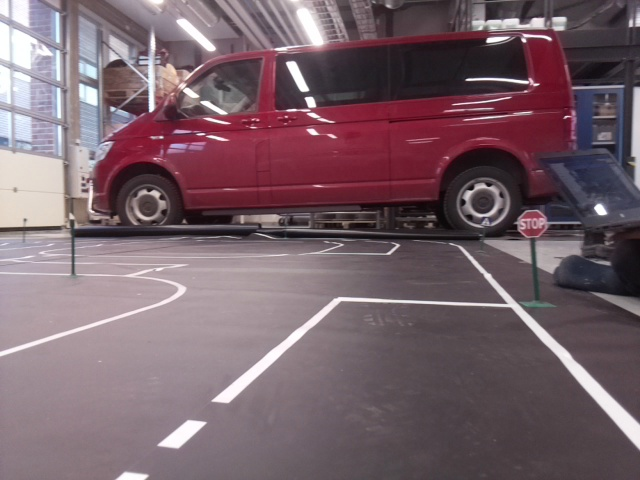Stop: (515, 209, 546, 238)
